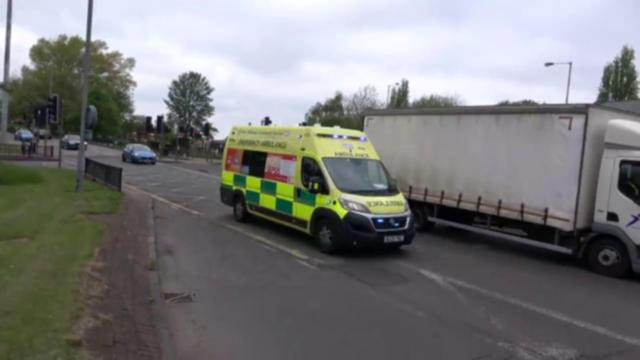police_car: (222, 124, 415, 254)
